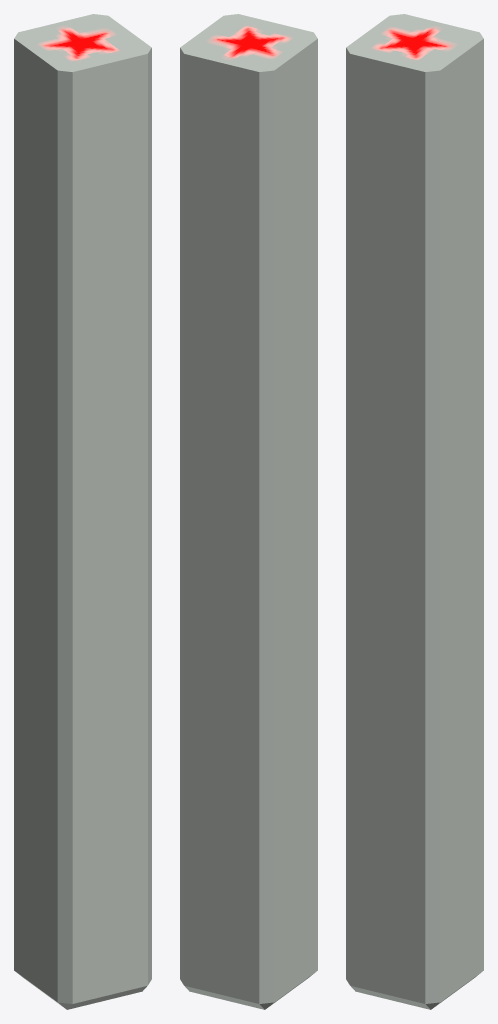
File: tableLeg.glb
The picture shows the model from 3 angles, left to right: view 1: azimuth 30°, elevation 25°; view 2: azimuth 150°, elevation 25°; view 3: azimuth 330°, elevation 25°; orthographic projection.
Visible parts, largest first — view 1: leg_NW; view 2: leg_NW; view 3: leg_NW.
Boxes of the visible parts, left/top/right/bottom form: leg_NW: left=14, top=14, right=151, bottom=1009; leg_NW: left=180, top=14, right=317, bottom=1009; leg_NW: left=346, top=14, right=483, bottom=1009.
Bounding box in the file's own units: 0.072 × 0.688 × 0.072.
Materials: 1 (1 with a texture image).
